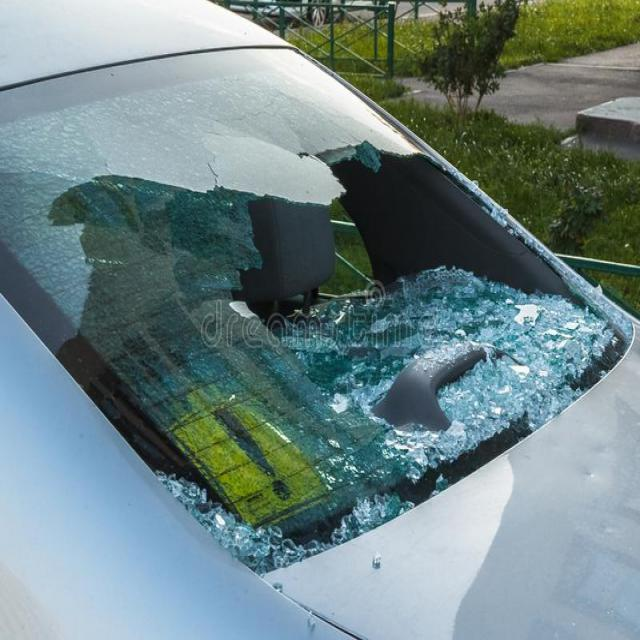Rear-windscreen-Damage: (0, 22, 639, 621)
